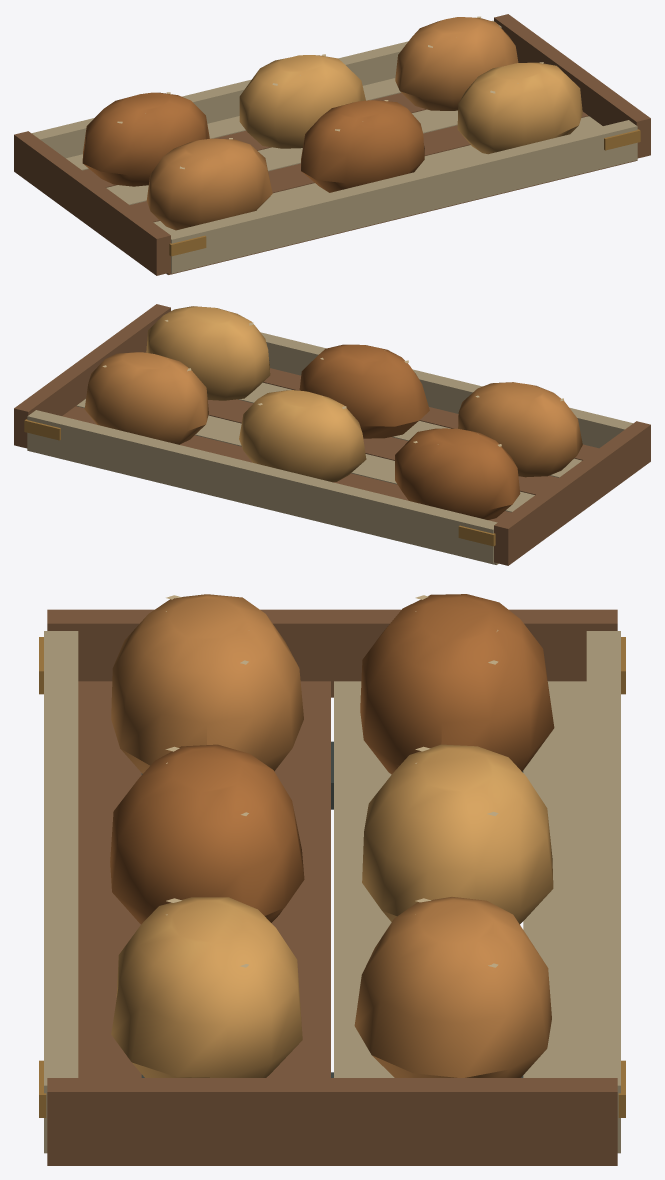
File: w0b-plaza-stock-bread.glb
3 renders of one model, top to bottom at view 1: azimuth 30°, elevation 25°; view 2: azimuth 150°, elevation 25°; view 3: azimuth 270°, elevation 25°, orthographic. The views are drawn at different scales.
Visible parts, largest first — view 1: Plaza stall tray | bread; view 2: Plaza stall tray | bread; view 3: Plaza stall tray | bread.
Boxes of the visible parts, left/top/right/bottom form: Plaza stall tray | bread: left=14, top=14, right=650, bottom=275; Plaza stall tray | bread: left=14, top=304, right=650, bottom=565; Plaza stall tray | bread: left=39, top=594, right=625, bottom=1165.
Bounding box in the file's own units: 1.4 × 0.249 × 0.7203.
